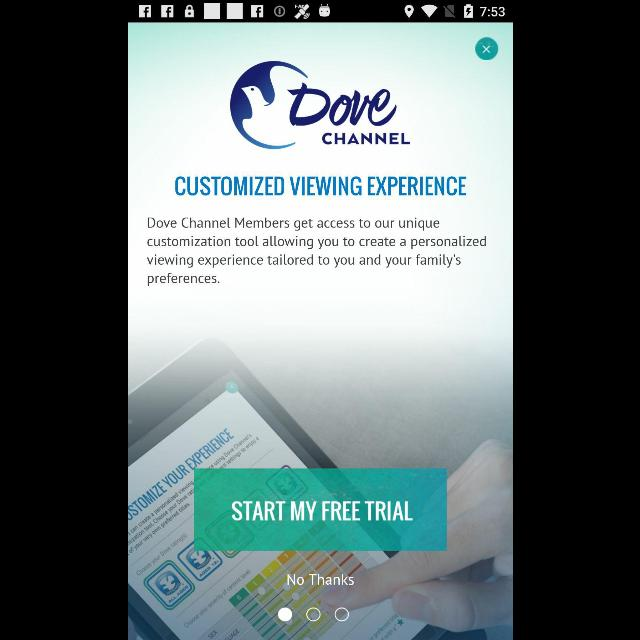backgroundimage: (128, 22, 512, 640)
icon: (473, 37, 499, 61)
image: (229, 60, 409, 150)
pageindicator: (276, 606, 350, 622)
text: (146, 217, 486, 287), (174, 176, 466, 196), (286, 574, 354, 586)
textbutton: (194, 469, 446, 551)
uppertaskbar: (128, 1, 512, 23)
